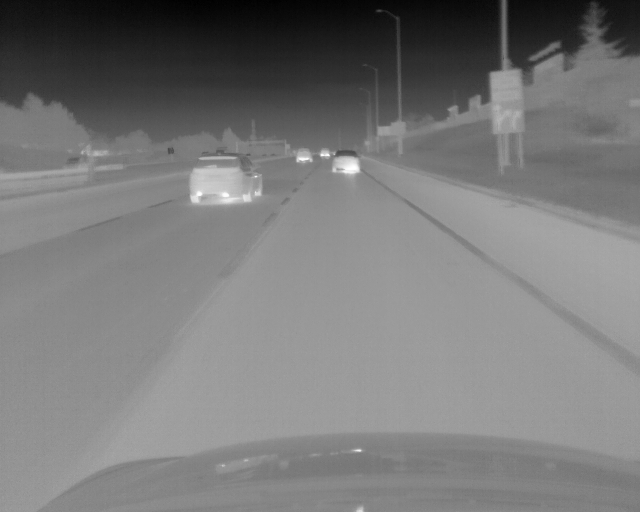car: (188, 154, 263, 204), (331, 150, 360, 174), (296, 148, 313, 163), (320, 147, 331, 157)
